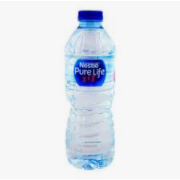Bottle: (67, 11, 117, 170)
